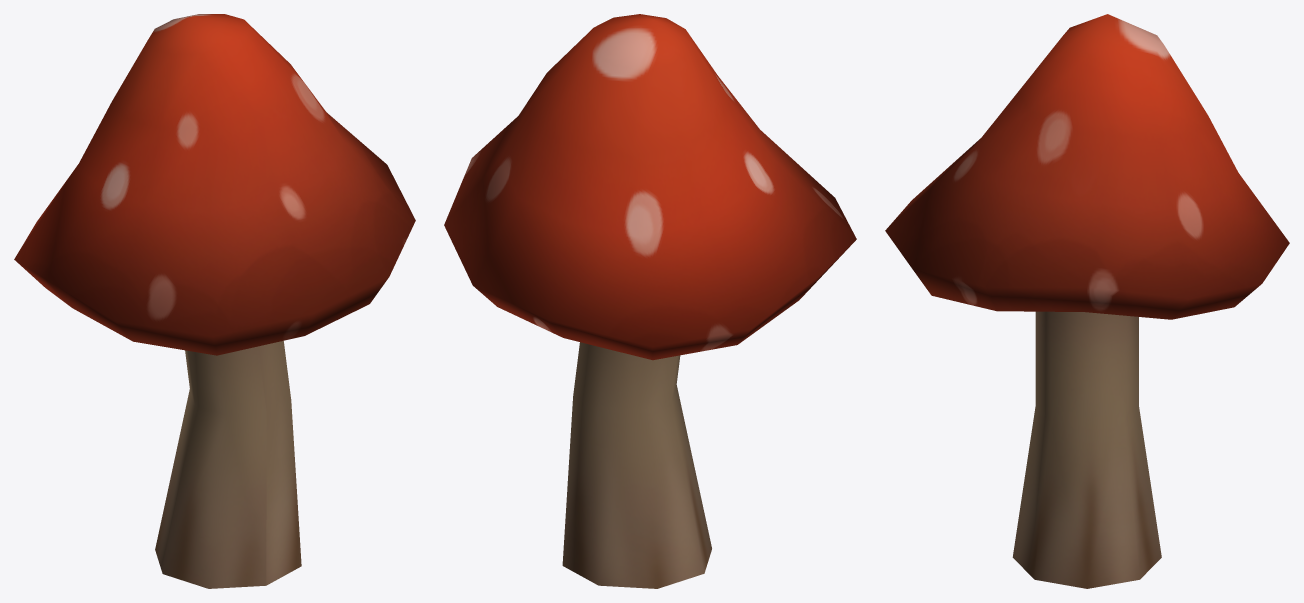
Rendered from Mushroom_2.FBX.
The picture shows the model from 3 angles, left to right: view 1: azimuth 30°, elevation 25°; view 2: azimuth 150°, elevation 25°; view 3: azimuth 270°, elevation 25°; orthographic projection. The views are drawn at different scales.
Parts seen in each view (by area): view 1: Mushroom_2; view 2: Mushroom_2; view 3: Mushroom_2.
Boxes of the visible parts, x1,y1,x2,y2 form: Mushroom_2: (14,14,415,588); Mushroom_2: (444,14,856,588); Mushroom_2: (885,14,1289,588).
Size of what is drawn, in the model's own units: 76.69 by 79.95 by 116.
